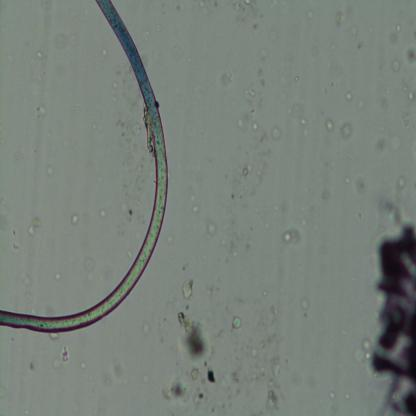Background material: (106, 85, 142, 145), (176, 310, 212, 360), (219, 218, 250, 261), (244, 335, 268, 386), (264, 357, 283, 415), (232, 1, 264, 30), (373, 195, 402, 226), (331, 5, 353, 32), (107, 352, 126, 382), (240, 164, 264, 184), (356, 336, 372, 366), (348, 178, 371, 198), (269, 196, 292, 215), (92, 38, 110, 62), (163, 380, 183, 400), (203, 364, 217, 388), (372, 137, 390, 155), (284, 228, 302, 246), (243, 87, 257, 108), (27, 217, 41, 238), (404, 44, 416, 68), (180, 280, 193, 301), (220, 72, 235, 89), (389, 56, 401, 75), (257, 70, 268, 90), (36, 101, 48, 119), (403, 84, 414, 103), (189, 364, 200, 382), (341, 121, 352, 139), (61, 345, 70, 366), (192, 390, 205, 404), (325, 386, 338, 400), (396, 173, 406, 191), (69, 210, 80, 226), (205, 221, 217, 235), (300, 296, 310, 312), (230, 316, 241, 330), (272, 127, 282, 141), (98, 206, 108, 219), (306, 8, 316, 21), (324, 118, 334, 131), (344, 90, 353, 104), (48, 330, 58, 342), (46, 166, 55, 177), (252, 119, 259, 132), (298, 117, 308, 126), (192, 204, 200, 215), (36, 49, 43, 59)
Microfibre: (0, 0, 168, 333)
Pen: (367, 221, 416, 415)
